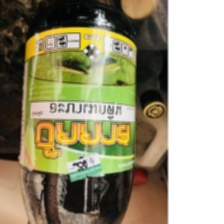insecticide: (15, 0, 142, 224)
